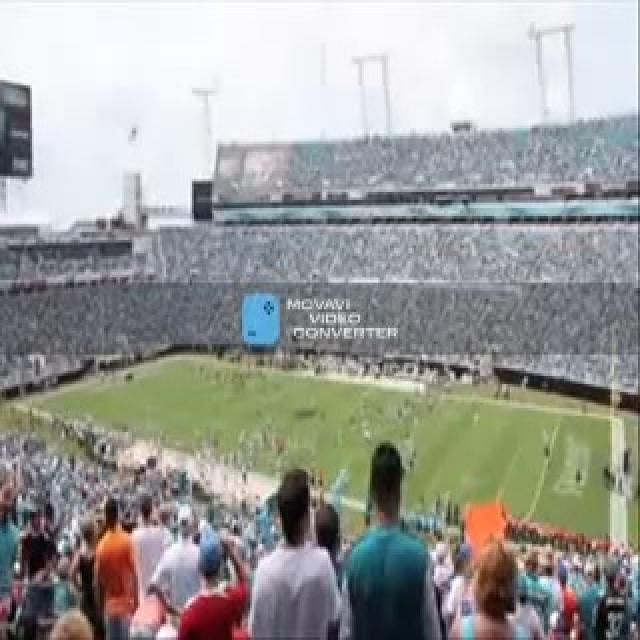non-voilence: (0, 419, 638, 637), (282, 293, 400, 344)
